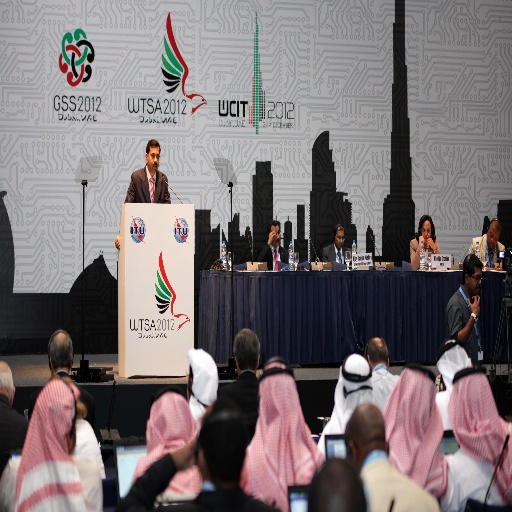hand: (468, 294, 480, 317), (427, 236, 437, 251), (113, 233, 121, 251), (417, 231, 425, 246), (267, 230, 276, 242)
